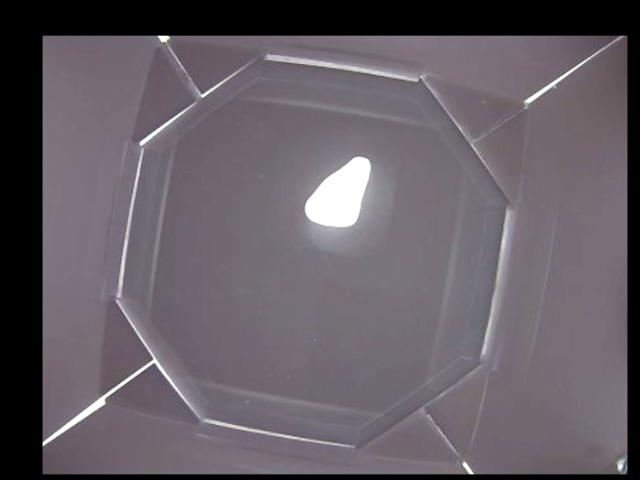Pebble: (303, 158, 370, 227)
